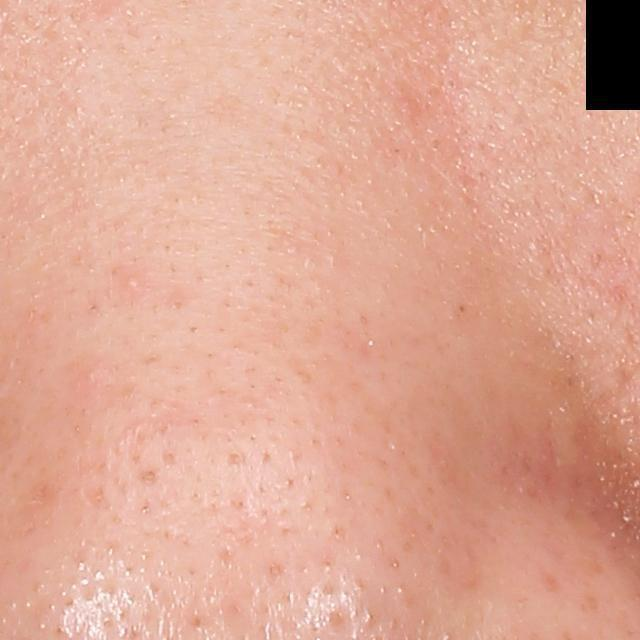comedo: (123, 274, 143, 293)
